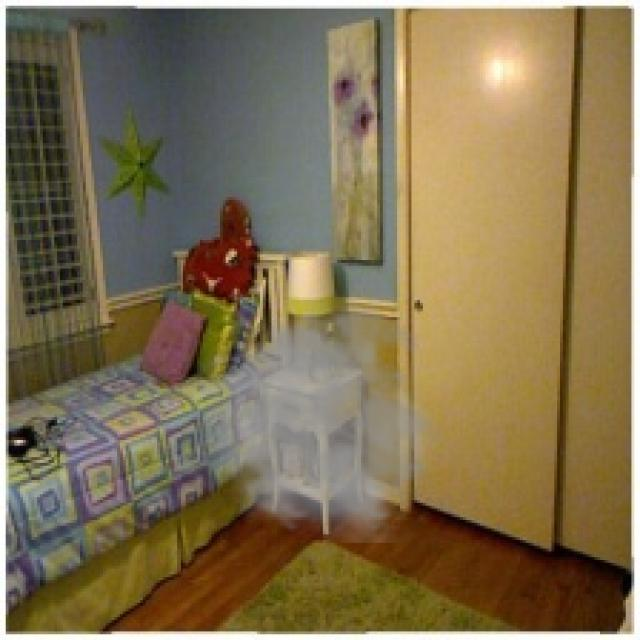smoke: (186, 286, 446, 543)
